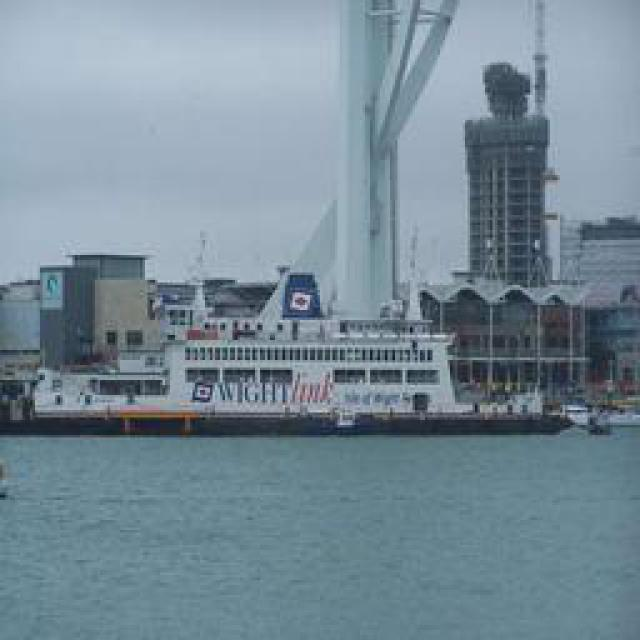Ship: (19, 191, 582, 436)
